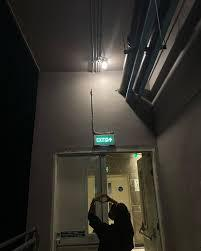exit: (54, 152, 160, 250)
lit_exit_sign: (94, 133, 114, 145)
